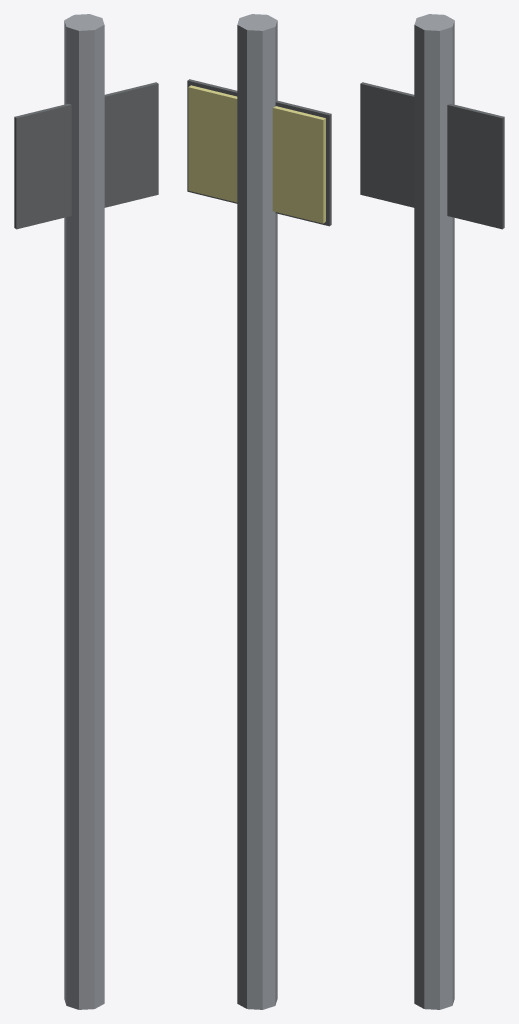
File: sign.glb
The picture shows the model from 3 angles, left to right: view 1: azimuth 30°, elevation 25°; view 2: azimuth 150°, elevation 25°; view 3: azimuth 330°, elevation 25°; orthographic projection.
Parts seen in each view (by area): view 1: Prop; view 2: Prop; view 3: Prop.
Boxes of the visible parts, x1,y1,x2,y2 form: Prop: (14,14,158,1009); Prop: (187,14,331,1009); Prop: (360,14,504,1009).
Size of the model in its own units: 0.395 by 2.6 by 0.1.
